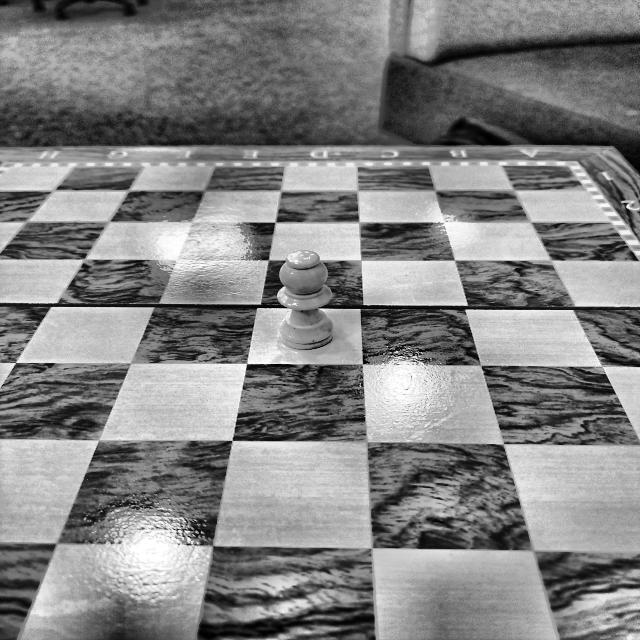white-bishop: (277, 250, 334, 351)
